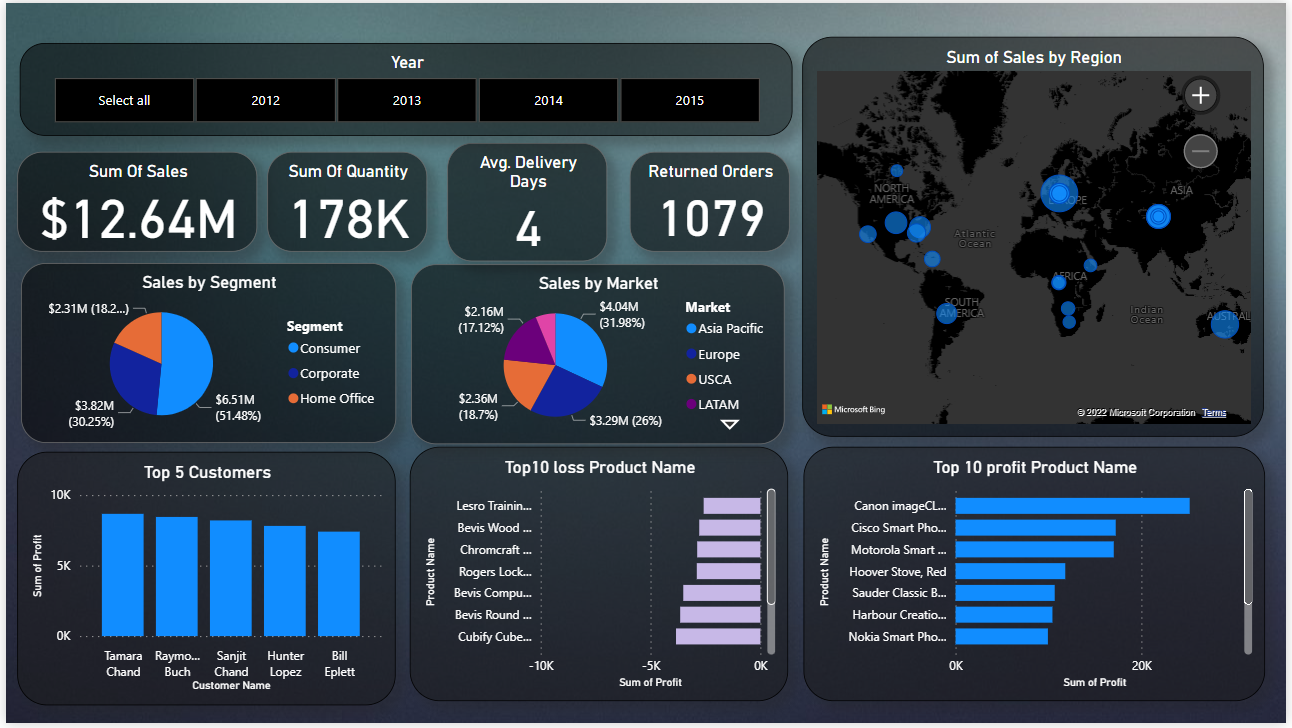

What the dashboard file says about the page in this screenshot:
{"tool":"powerbi","page":{"name":"Page 1","canvas":[1280,720],"ordinal":0},"visuals":[{"type":"card","title":"Sum Of Sales","fields":{"Values":["Orders.Sales"]},"box":[11.4,148.6,240,100],"z":0},{"type":"card","title":"Sum Of Quantity","fields":{"Values":["Orders.Quantity"]},"box":[261.4,148.6,160,100],"z":1000},{"type":"card","title":"Avg. Delivery Days","fields":{"Values":["Orders.Delivery Days"]},"box":[441.4,140,160,118.6],"z":2000},{"type":"slicer","title":"Year","fields":{"Values":["Orders.Year"]},"box":[14.3,40,772.9,92.9],"z":3000},{"type":"card","title":"Returned Orders","fields":{"Values":["Returns.Return Orders"]},"box":[623.3,148.6,160,100],"z":4000},{"type":"map","fields":{"Category":["Orders.Region"],"Size":["Orders.Sales"]},"box":[796.7,33.3,461.7,400],"z":5000},{"type":"barChart","title":"Top 10 profit Product Name","fields":{"Category":["Orders.Product Name"],"Y":["Orders.Profit"]},"box":[797.1,444.3,461.4,254.3],"z":6000},{"type":"barChart","title":"Top10 loss Product Name","fields":{"Category":["Orders.Product Name"],"Y":["Orders.Profit"]},"box":[404.3,444.3,378.6,254.3],"z":7000},{"type":"pieChart","title":"Sales by Segment","fields":{"Category":["Orders.Segment"],"Y":["Orders.Sales"]},"box":[15,260,375,180],"z":8000},{"type":"pieChart","title":"Sales by Market","fields":{"Category":["Orders.Market"],"Y":["Orders.Sales"]},"box":[405,261.7,373.3,180],"z":9000},{"type":"columnChart","title":"Top 5 Customers","fields":{"Category":["Orders.Customer Name"],"Y":["Orders.Profit"]},"box":[11.7,448.3,378.3,253.3],"z":10000}]}

Visuals, with their boxes in screenshot pixels (x1, y1, x2, y2), scaled from the page's 1280x720 canvas onto the 1292x728 screenshot:
"Sum Of Sales" card: 12 150 254 251
"Sum Of Quantity" card: 264 150 425 251
"Avg. Delivery Days" card: 446 142 607 261
"Year" slicer: 14 40 795 134
"Returned Orders" card: 629 150 791 251
map - Orders.Region x Orders.Sales: 804 34 1270 438
"Top 10 profit Product Name" barChart: 805 449 1270 706
"Top10 loss Product Name" barChart: 408 449 790 706
"Sales by Segment" pieChart: 15 263 394 445
"Sales by Market" pieChart: 409 265 786 447
"Top 5 Customers" columnChart: 12 453 394 709
